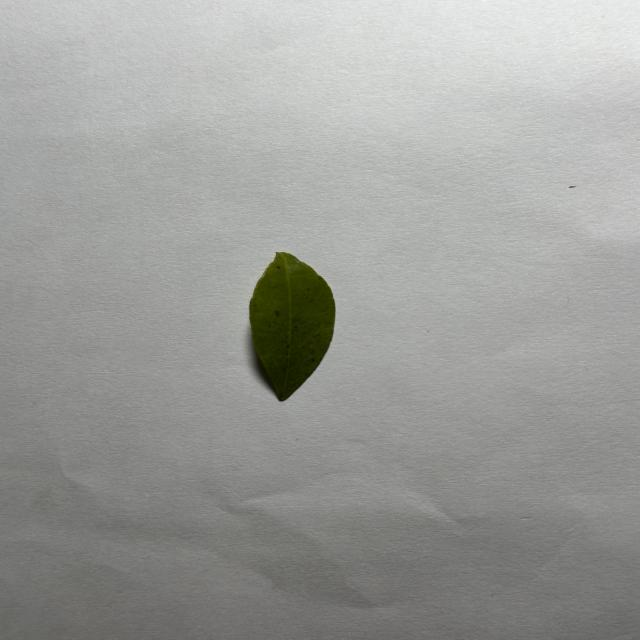greening: (250, 253, 335, 401)
